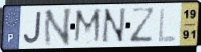J: (22, 11, 43, 46)
L: (157, 7, 178, 44)
M: (72, 8, 103, 46)
N: (42, 6, 74, 48), (100, 7, 128, 45)
Z: (129, 6, 158, 45)
